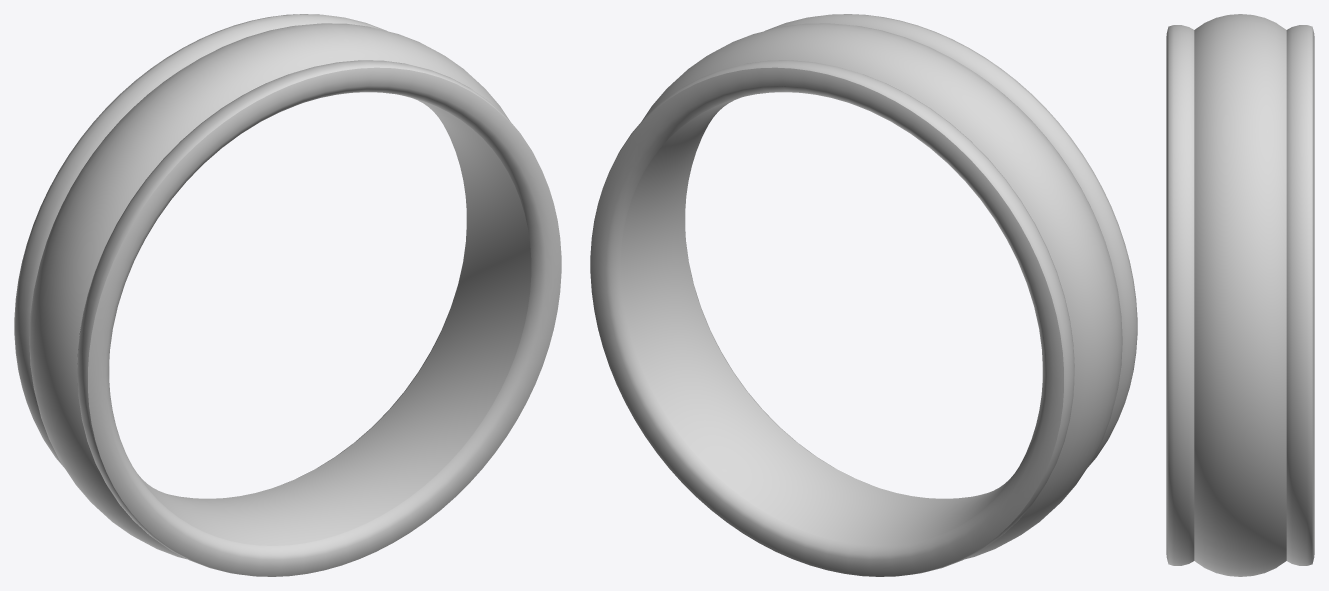
File: Bombe Mid W65 T22 S105.glb
The picture shows the model from 3 angles, left to right: view 1: azimuth 30°, elevation 25°; view 2: azimuth 150°, elevation 25°; view 3: azimuth 270°, elevation 25°; orthographic projection.
Parts seen in each view (by area): view 1: Default(FC7BD12E-D6A4-4FD8-B6EB-F8C07931B7FF), Default(844D6DC7-000C-4339-BDC3-86EA46C22773); view 2: Default(FC7BD12E-D6A4-4FD8-B6EB-F8C07931B7FF), Default(844D6DC7-000C-4339-BDC3-86EA46C22773); view 3: Default(844D6DC7-000C-4339-BDC3-86EA46C22773), Default(FC7BD12E-D6A4-4FD8-B6EB-F8C07931B7FF).
Boxes of the visible parts, x1,y1,x2,y2 form: Default(FC7BD12E-D6A4-4FD8-B6EB-F8C07931B7FF): (14, 14, 561, 576); Default(844D6DC7-000C-4339-BDC3-86EA46C22773): (29, 23, 509, 559); Default(FC7BD12E-D6A4-4FD8-B6EB-F8C07931B7FF): (590, 14, 1137, 576); Default(844D6DC7-000C-4339-BDC3-86EA46C22773): (642, 23, 1122, 559); Default(844D6DC7-000C-4339-BDC3-86EA46C22773): (1194, 14, 1286, 576); Default(FC7BD12E-D6A4-4FD8-B6EB-F8C07931B7FF): (1166, 25, 1314, 565).
Size of the model in its own units: 0.0245 by 0.0245 by 0.00645.
Materials: 2 (2 with a texture image).
